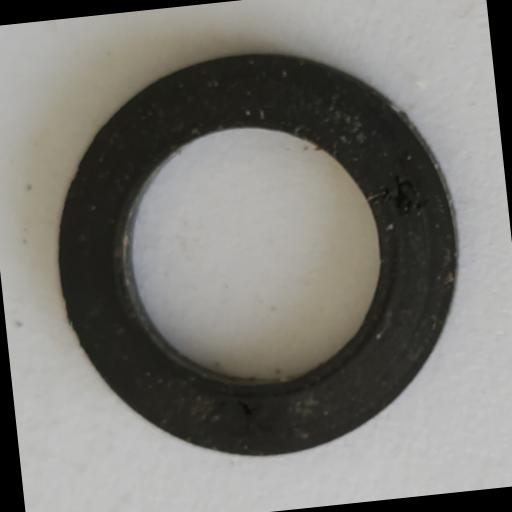defect: (364, 169, 430, 224), (217, 394, 264, 437)
